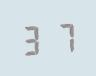seven: (48, 20, 76, 53)
three: (19, 22, 47, 56)
